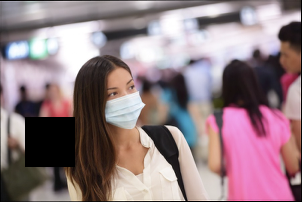with_mask: (103, 76, 147, 130)
